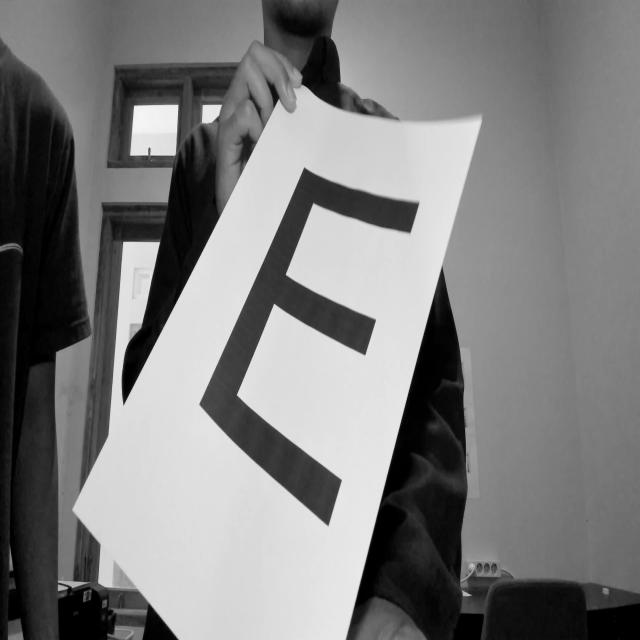e: (185, 141, 429, 544)
